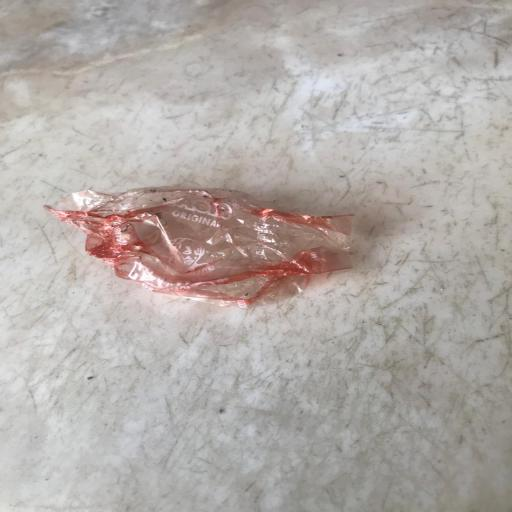waste: (38, 176, 362, 315)
